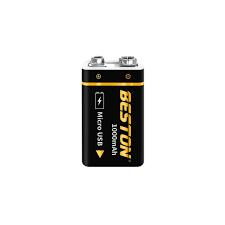9V Battery: (81, 56, 145, 168)
